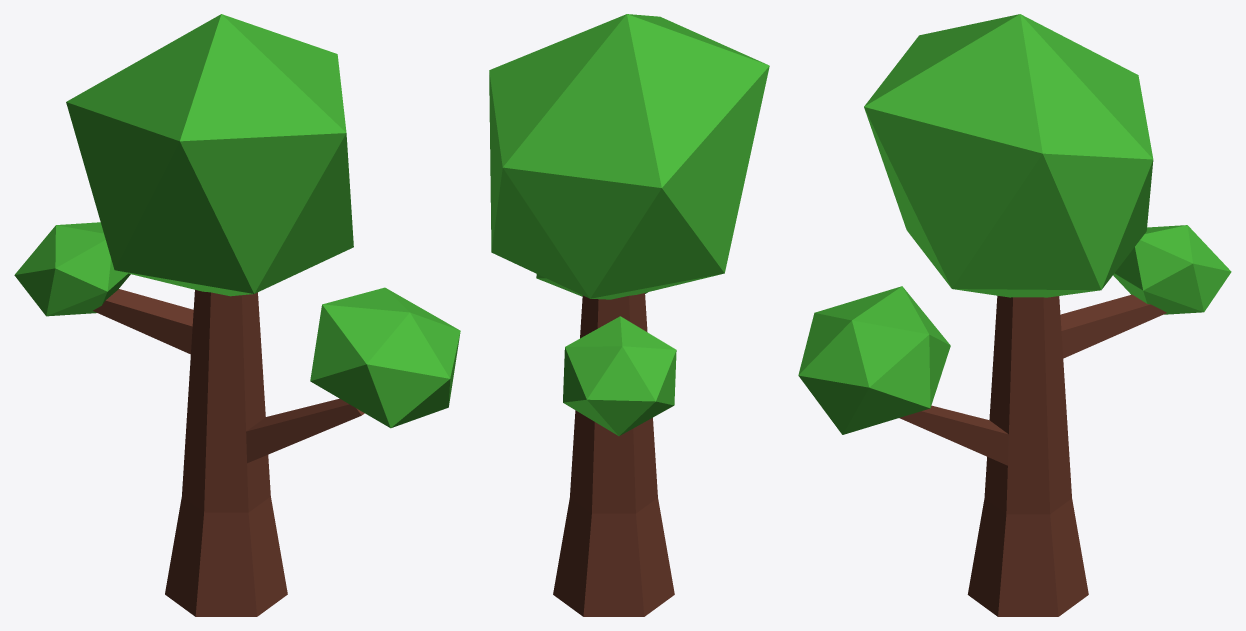
The model's file is Boom4.fbx.
3 views of the same model, side by side, from view 1: azimuth 30°, elevation 25°; view 2: azimuth 150°, elevation 25°; view 3: azimuth 270°, elevation 25° (orthographic).
Visible parts, largest first — view 1: Icosphere.001; view 2: Icosphere.001; view 3: Icosphere.001.
Boxes of the visible parts, bbox=[...] form: Icosphere.001: bbox=[14, 14, 460, 616]; Icosphere.001: bbox=[489, 14, 769, 616]; Icosphere.001: bbox=[798, 14, 1231, 616].
Bounding box in the file's own units: 68.44 × 136 × 92.93.
